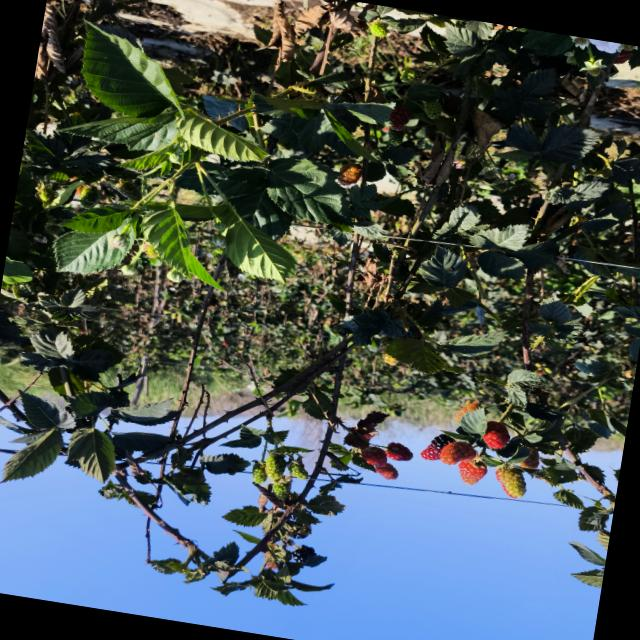marron: (421, 434, 451, 461)
naranja: (439, 441, 477, 465), (483, 422, 510, 449), (458, 462, 487, 486), (361, 448, 387, 467), (386, 443, 412, 461), (375, 464, 398, 480)
verde: (496, 468, 526, 498), (265, 454, 286, 480), (252, 461, 267, 484), (288, 462, 308, 479), (272, 483, 289, 500)
